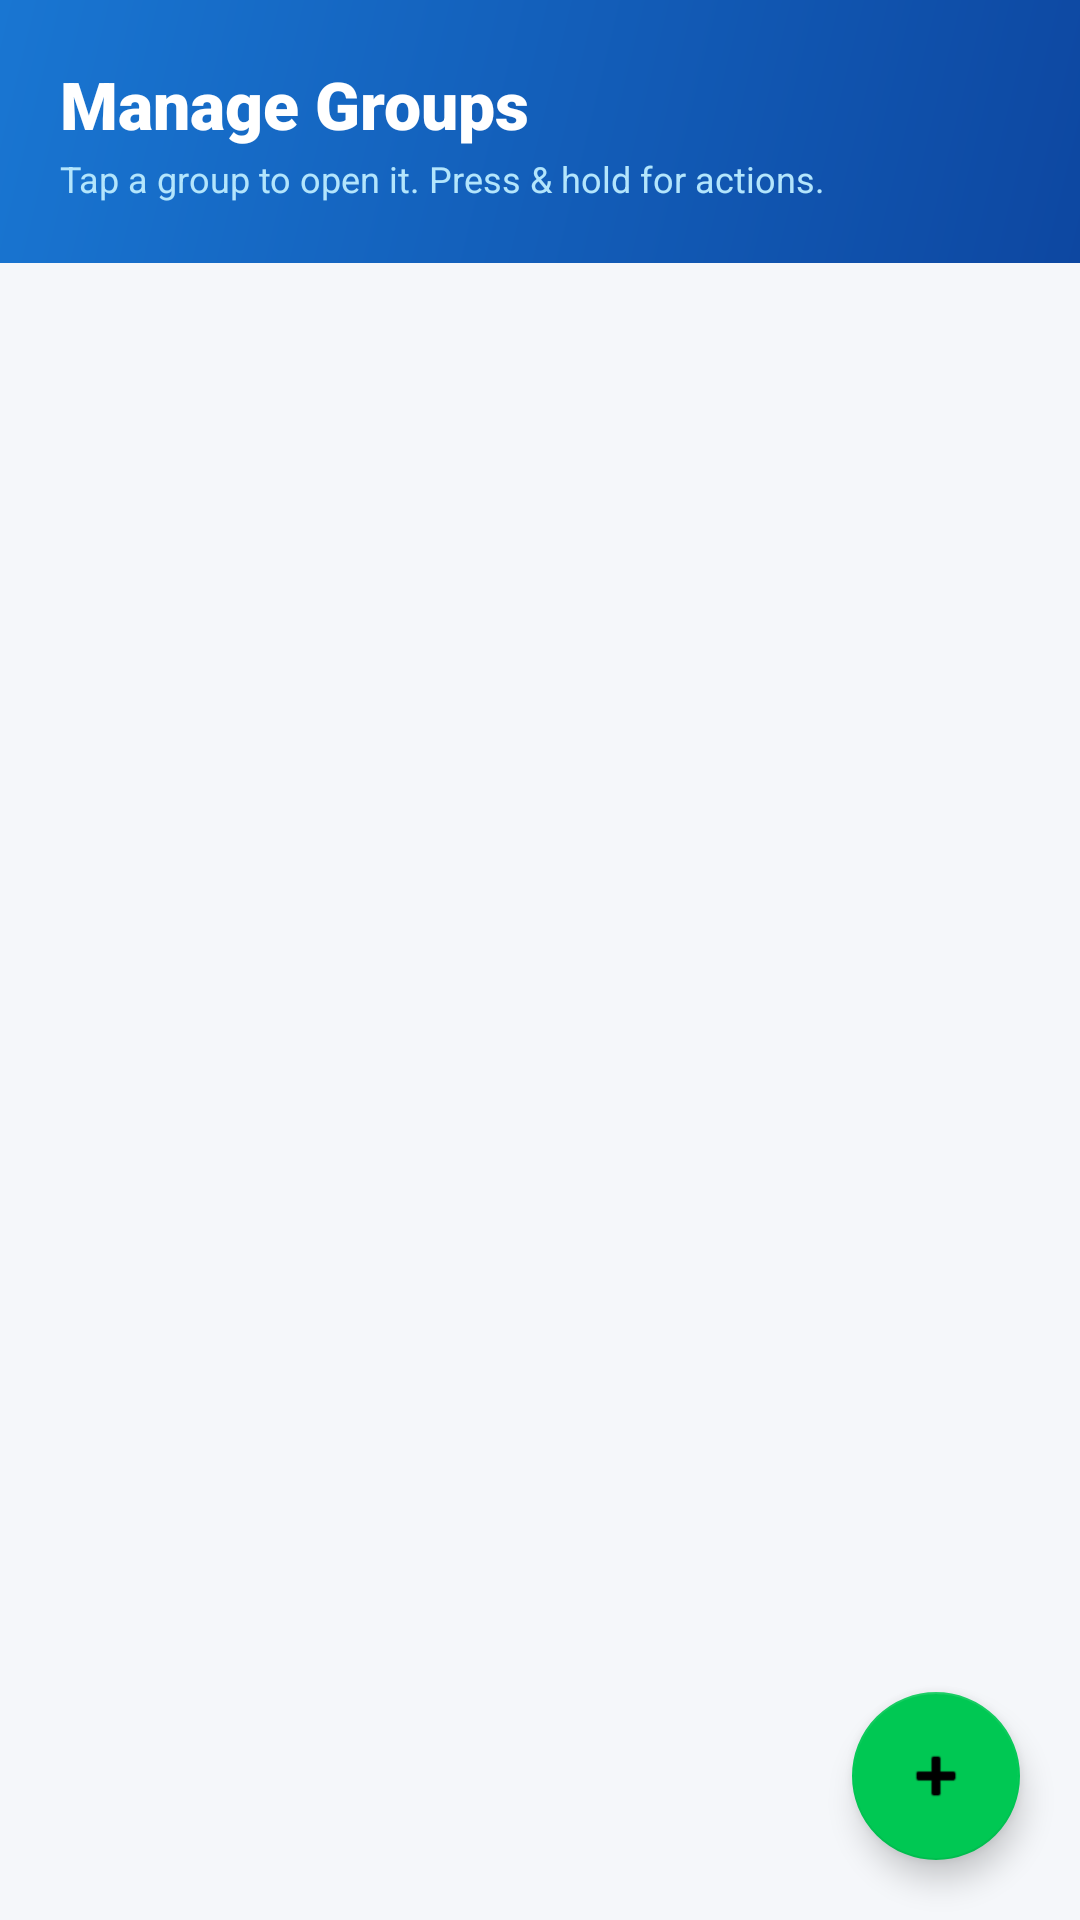

Locate icon controls on the screen. Image size 1080*1920, boxes as (x1=x1, y1=y1, x2=x2, y2=y2).
Add group: (x1=852, y1=1692, x2=1020, y2=1860)
